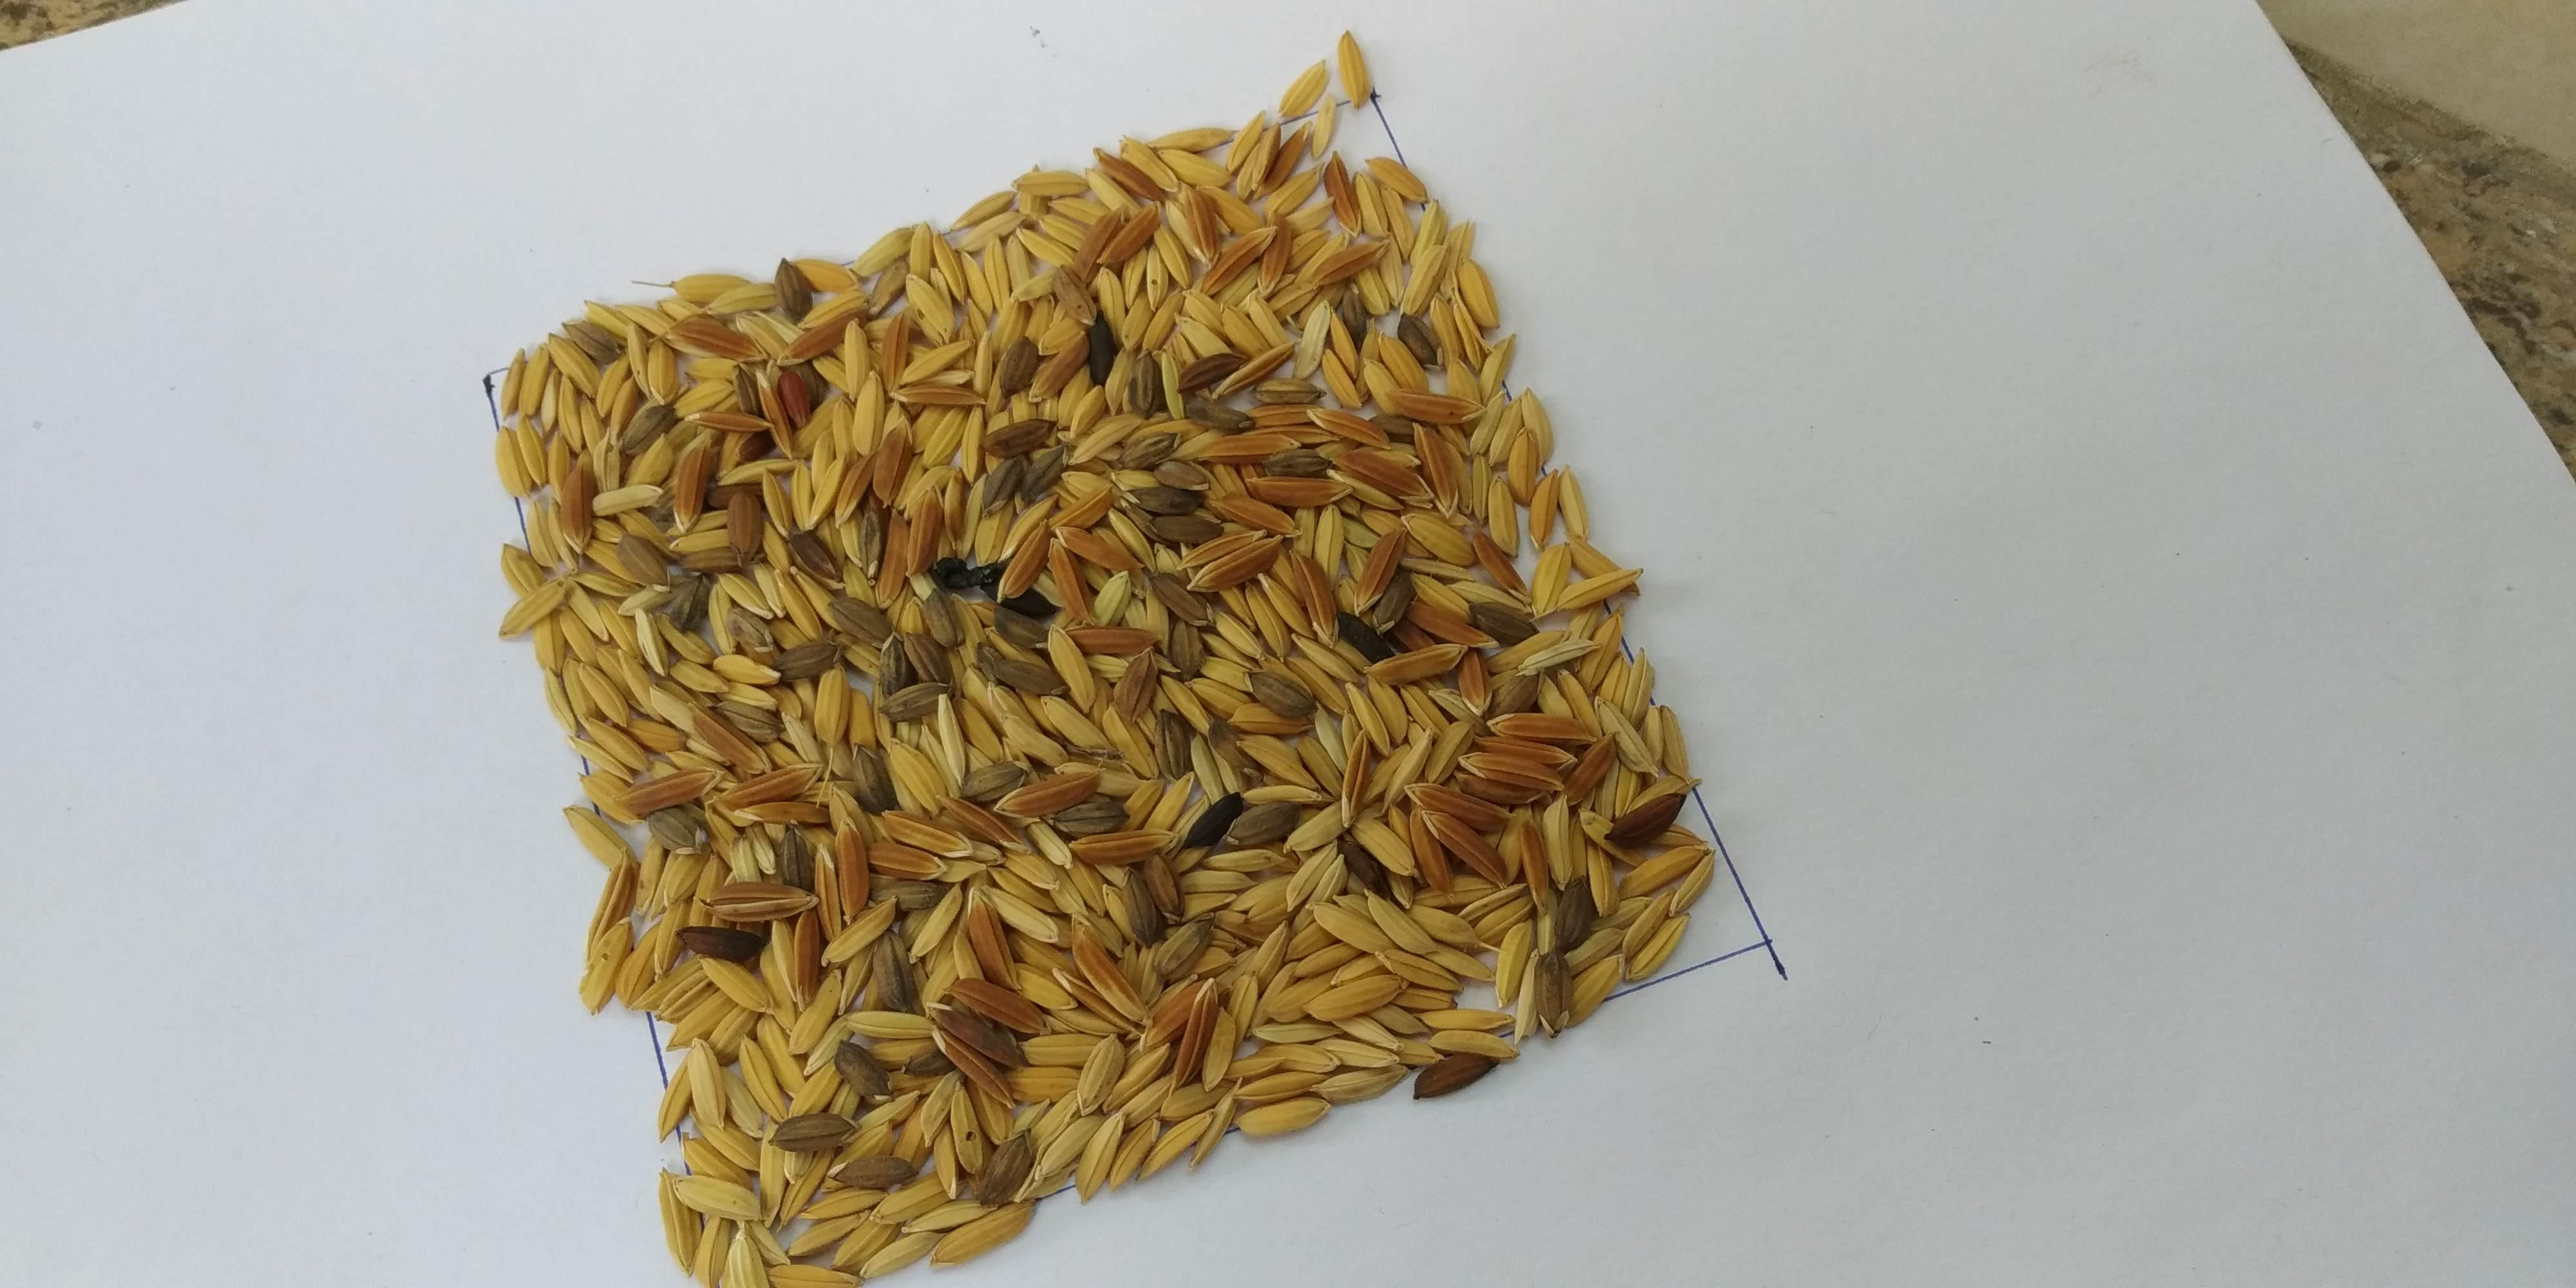impure: (651, 314, 1467, 979)
